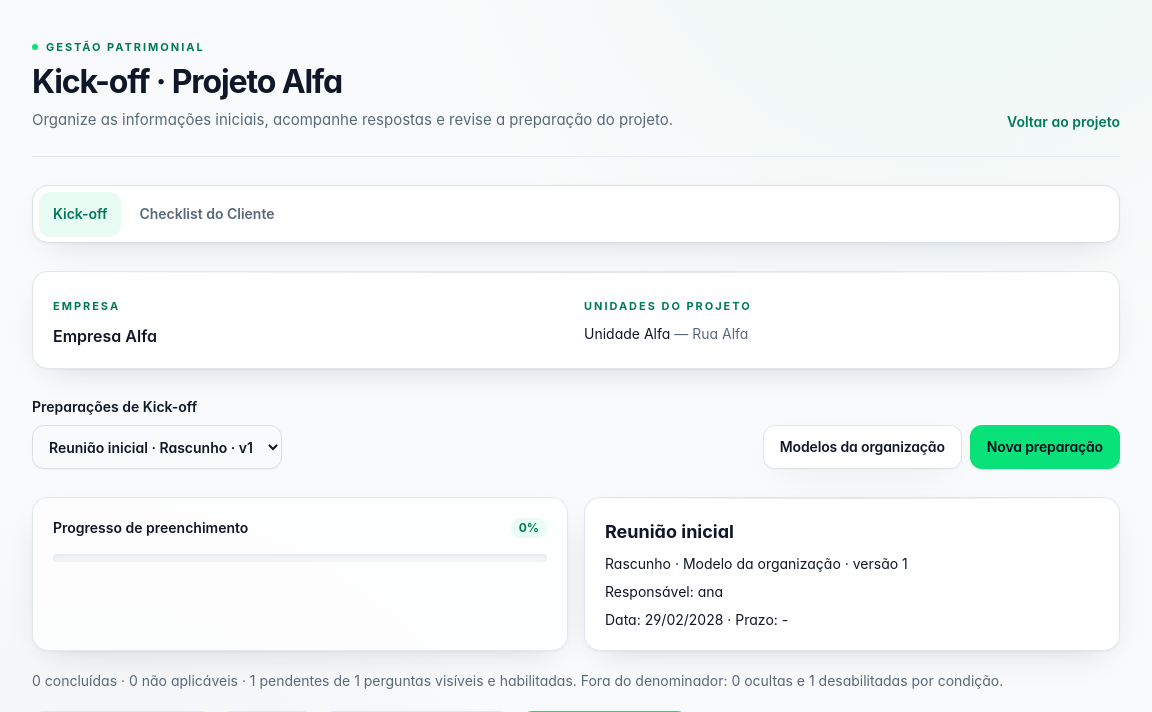
Test: Project preparation UI › manages organization templates and creates an explicit reusable reference model
Click the button "Modelos da organização".
click(862, 447)  # box x1=763 y1=425 x2=962 y2=469
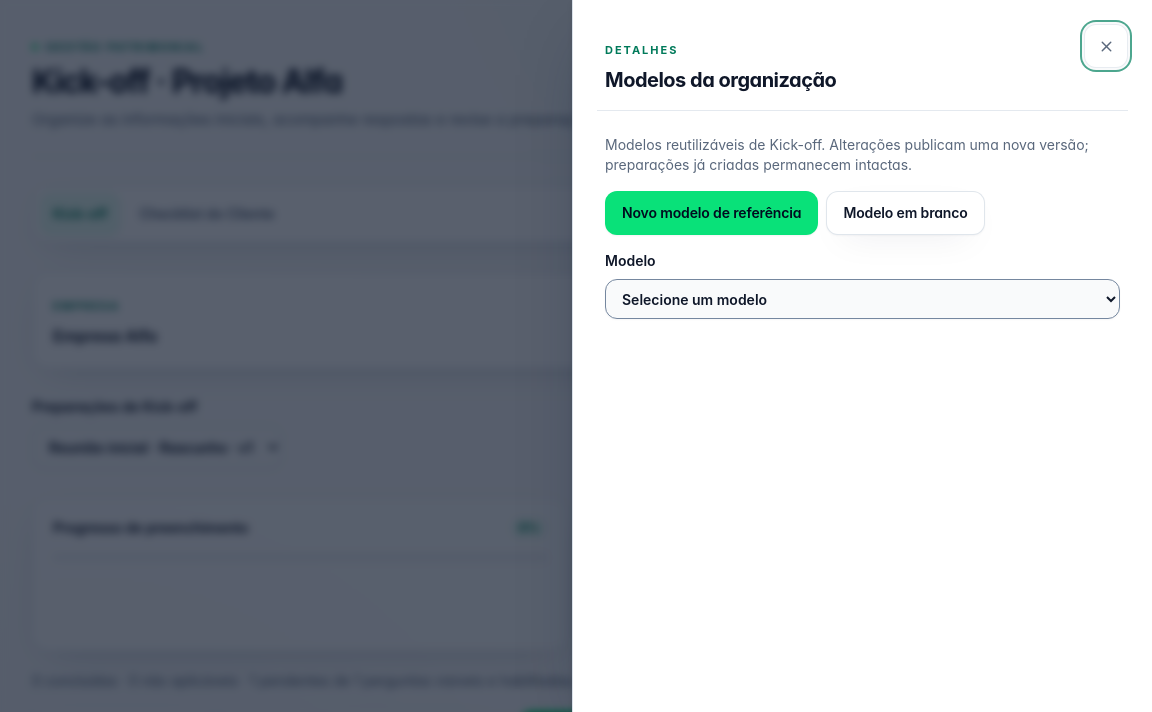
Click the button "Novo modelo de referência".
click(712, 213)  # box x1=605 y1=191 x2=818 y2=235
(page scrolled)
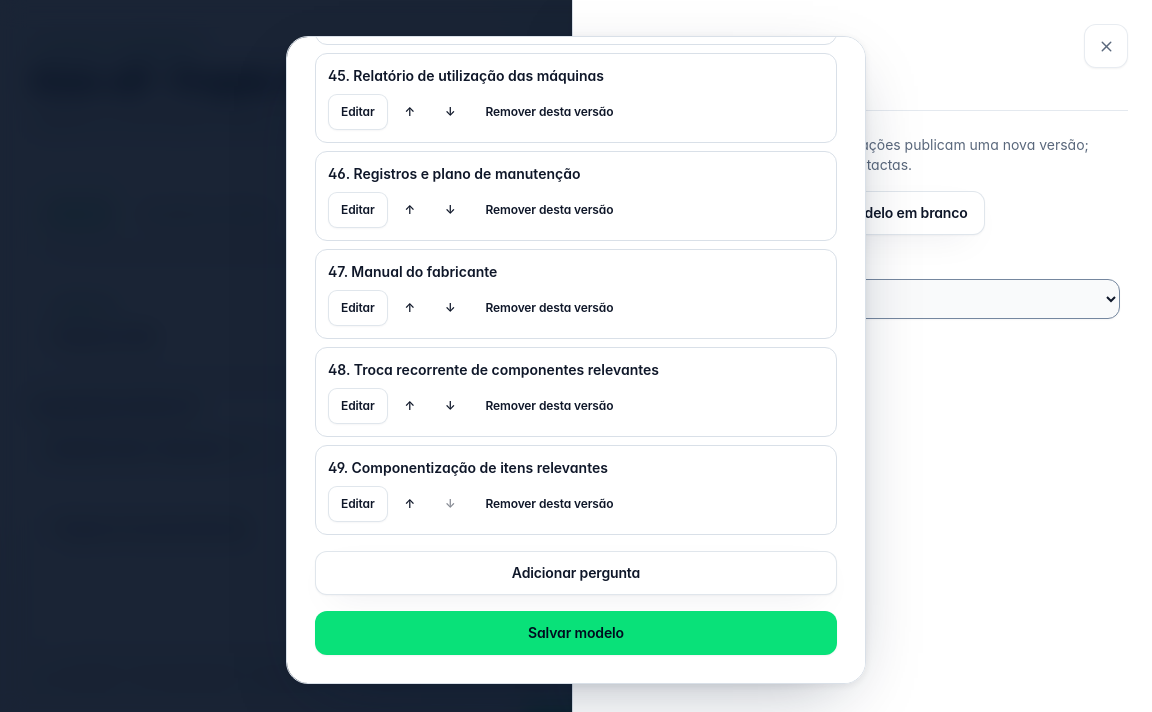
Click the button "Salvar modelo".
click(576, 633)  # box x1=315 y1=611 x2=837 y2=655
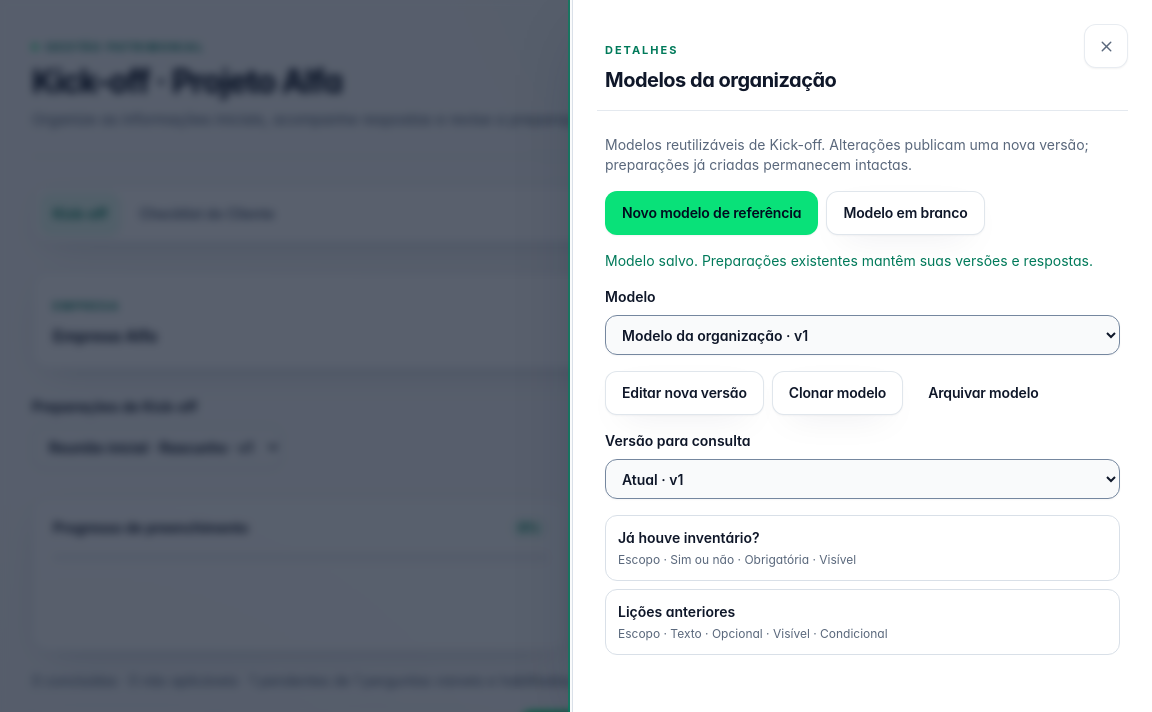
Expected: the text "Modelo salvo. Preparações existentes mantêm suas versões e respostas." is shown, x1=605 y1=251 x2=1120 y2=271
